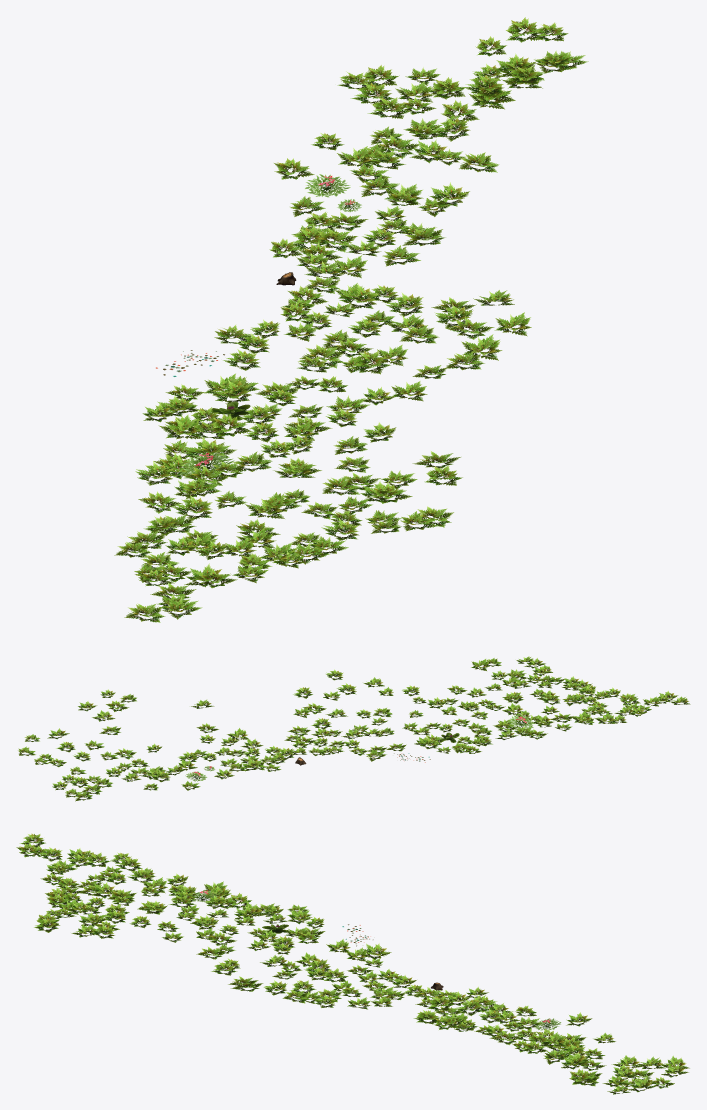
The model's file is Ferns_11.fbx.
The picture shows the model from 3 angles, top to bottom: view 1: azimuth 30°, elevation 25°; view 2: azimuth 150°, elevation 25°; view 3: azimuth 270°, elevation 25°; orthographic projection. The views are drawn at different scales.
Parts seen in each view (by area): view 1: Ferns_11; view 2: Ferns_11; view 3: Ferns_11.
Boxes of the visible parts, x1,y1,x2,y2 form: Ferns_11: [114, 17, 588, 622]; Ferns_11: [18, 656, 690, 801]; Ferns_11: [16, 833, 689, 1094].
Bounding box in the file's own units: 10179 × 1176 × 10232.
